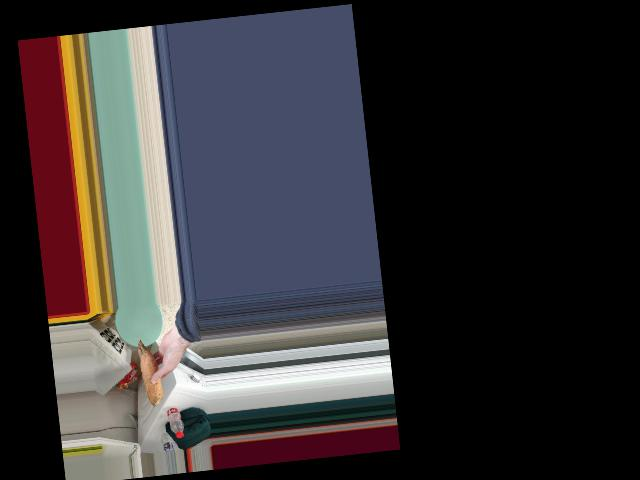sweet_potato: (135, 333, 161, 410)
